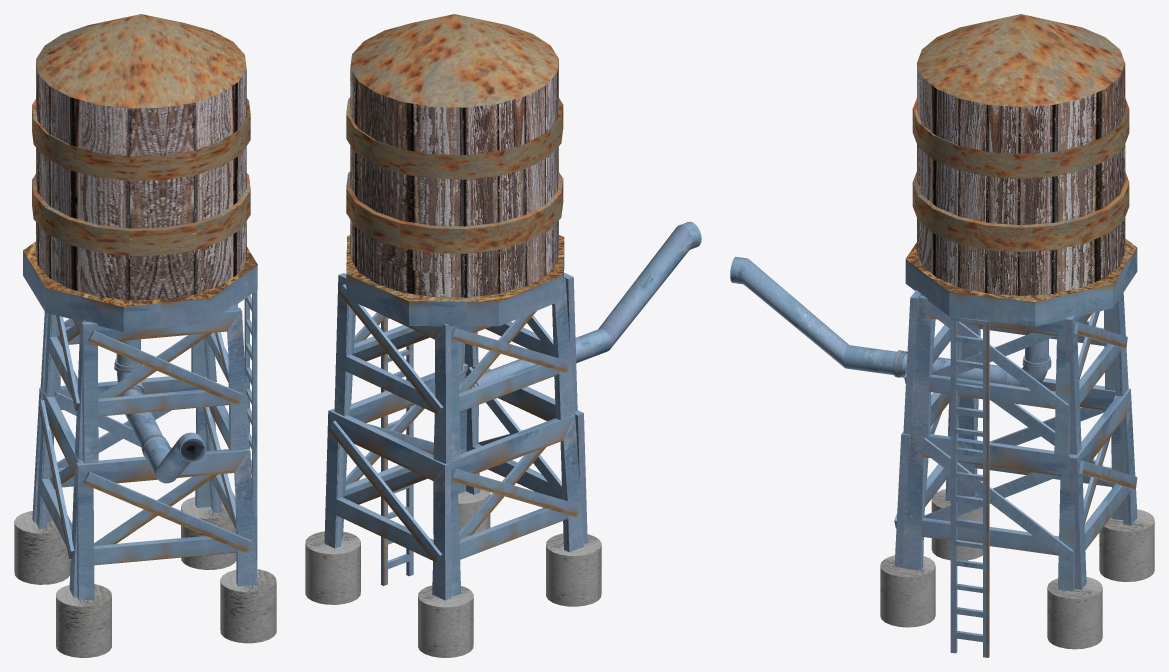
The model's file is WaterTower.fbx.
3 views of the same model, side by side, from view 1: azimuth 30°, elevation 25°; view 2: azimuth 150°, elevation 25°; view 3: azimuth 270°, elevation 25° (orthographic).
Parts seen in each view (by area): view 1: TowerWell, TowerWall__1_, TowerWall__4_, TowerFlat, TowerBase, TowerBase__1_, TowerWall, TowerBase__2_, WoodDiagFront_1, TowerWall__3_, WoodDiagFront_4, TowerWall__5_ (+16 smaller); view 2: TowerWell, TowerWall__3_, TowerWall, TowerFlat, TowerWall__7_, TowerWall__5_, TowerStackPipe, TowerWall__1_, TowerBase__3_, TowerBase__2_, TowerBase__1_, TowerWall__2_ (+16 smaller); view 3: TowerWell, TowerWall__2_, TowerFlat, TowerWall__6_, TowerWall__3_, TowerStackPipe, TowerWall__7_, TowerBase__3_, TowerBase, TowerBase__2_, TowerWall, TowerLadder__1_ (+15 smaller).
Boxes of the visible parts, x1=… form: TowerWell: x1=32, y1=14, x2=250, y2=300; TowerWall__1_: x1=76, y1=449, x2=257, y2=600; TowerWall__4_: x1=81, y1=308, x2=249, y2=463; TowerFlat: x1=23, y1=241, x2=257, y2=331; TowerBase: x1=220, y1=569, x2=276, y2=643; TowerBase__1_: x1=56, y1=584, x2=111, y2=657; TowerWall: x1=36, y1=391, x2=83, y2=597; TowerBase__2_: x1=14, y1=511, x2=70, y2=584; WoodDiagFront_1: x1=83, y1=471, x2=251, y2=552; TowerWall__3_: x1=32, y1=376, x2=210, y2=522; WoodDiagFront_4: x1=88, y1=330, x2=243, y2=404; TowerWall__5_: x1=44, y1=313, x2=86, y2=460; TowerWell: x1=346, y1=14, x2=563, y2=297; TowerWall__3_: x1=324, y1=408, x2=451, y2=600; TowerWall: x1=450, y1=414, x2=583, y2=596; TowerFlat: x1=346, y1=235, x2=564, y2=326; TowerWall__7_: x1=334, y1=273, x2=451, y2=463; TowerWall__5_: x1=451, y1=278, x2=574, y2=460; TowerStackPipe: x1=575, y1=221, x2=701, y2=363; TowerWall__1_: x1=464, y1=363, x2=587, y2=544; TowerBase__3_: x1=305, y1=531, x2=360, y2=604; TowerBase__2_: x1=418, y1=585, x2=473, y2=657; TowerBase__1_: x1=546, y1=533, x2=601, y2=606; TowerWall__2_: x1=341, y1=363, x2=467, y2=538; TowerWell: x1=912, y1=14, x2=1129, y2=295; TowerWall__2_: x1=902, y1=434, x2=1074, y2=591; TowerFlat: x1=905, y1=238, x2=1137, y2=326; TowerWall__6_: x1=910, y1=295, x2=1069, y2=456; TowerWall__3_: x1=1069, y1=388, x2=1137, y2=589; TowerStackPipe: x1=730, y1=256, x2=902, y2=377; TowerWall__7_: x1=1065, y1=293, x2=1128, y2=454; TowerBase__3_: x1=1047, y1=577, x2=1102, y2=649; TowerBase: x1=880, y1=555, x2=935, y2=627; TowerBase__2_: x1=1099, y1=509, x2=1154, y2=581; TowerWall: x1=957, y1=378, x2=1123, y2=520; TowerLadder__1_: x1=950, y1=428, x2=989, y2=545.
Size of the model in its own units: 663 by 1661 by 1065.
